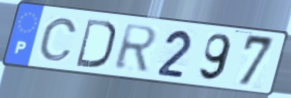2: (152, 26, 196, 80)
7: (237, 32, 276, 89)
9: (197, 32, 233, 83)
C: (37, 16, 80, 63)
D: (74, 17, 117, 71)
R: (112, 22, 160, 73)
